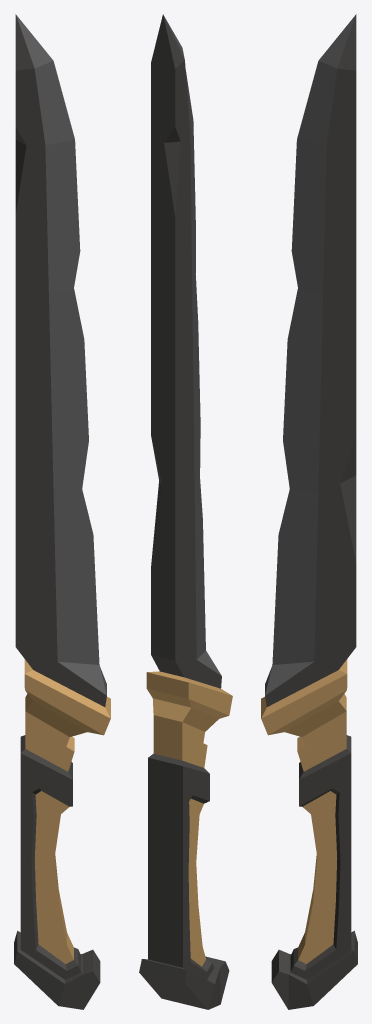
Rendered from SM_Weapon_Straightsword.fbx.
The picture shows the model from 3 angles, left to right: view 1: azimuth 90°, elevation 25°; view 2: azimuth 150°, elevation 25°; view 3: azimuth 270°, elevation 25°; orthographic projection. The views are drawn at different scales.
Parts seen in each view (by area): view 1: SM_Wep_Straightsword_01; view 2: SM_Wep_Straightsword_01; view 3: SM_Wep_Straightsword_01.
Part boxes in pixels (x1,y1,x2,y2): SM_Wep_Straightsword_01: [14, 14, 110, 1009]; SM_Wep_Straightsword_01: [139, 14, 232, 1009]; SM_Wep_Straightsword_01: [261, 14, 357, 1009].
Bounding box in the file's own units: 6.26 × 114 × 10.12.
Materials: 1 (1 with a texture image).
